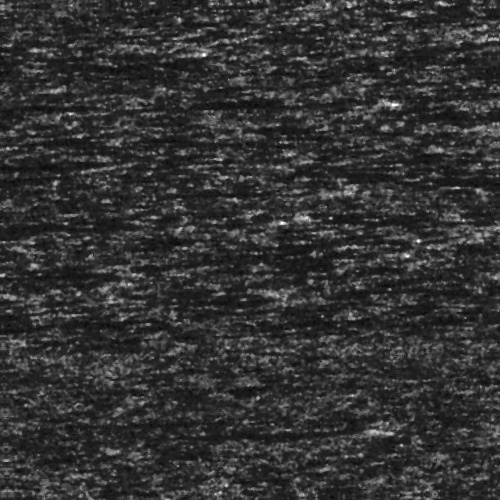object: (289, 92, 456, 111), (336, 427, 409, 438), (303, 189, 376, 198), (76, 96, 159, 103), (91, 157, 144, 166), (157, 46, 230, 51)
shadow: (112, 92, 372, 111), (123, 427, 373, 438), (0, 157, 117, 166), (2, 46, 193, 51), (0, 96, 117, 103), (253, 189, 339, 198), (432, 337, 500, 346)
